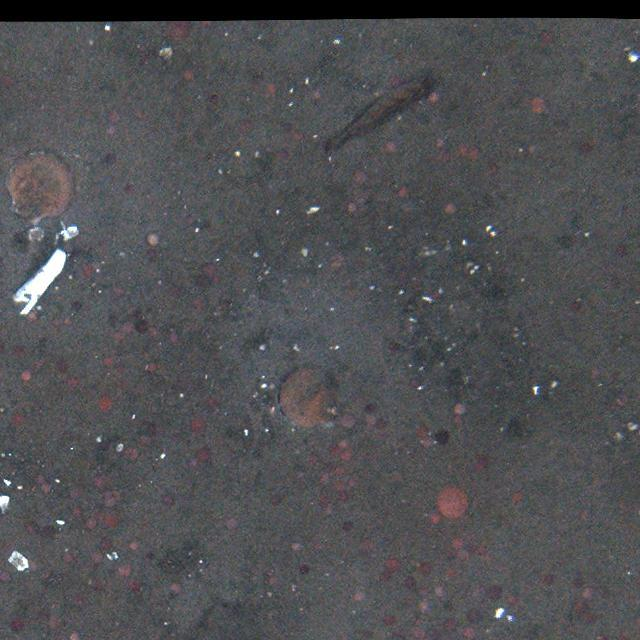roundfish: (326, 70, 436, 160)
